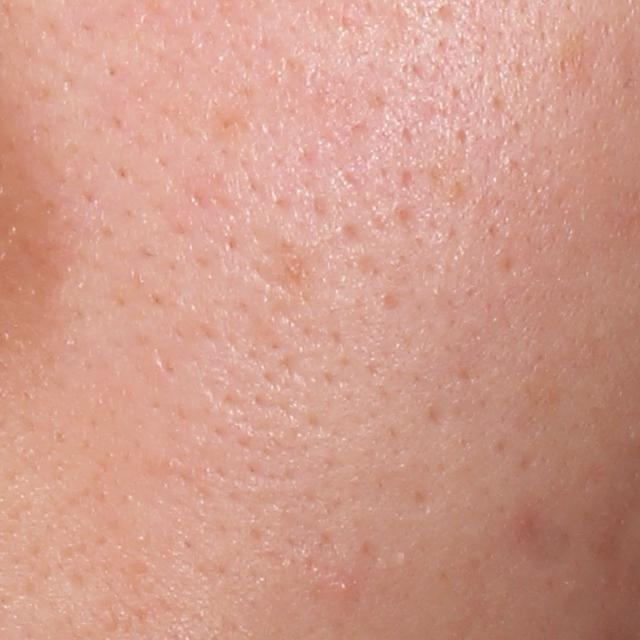comedo: (330, 572, 361, 597)
